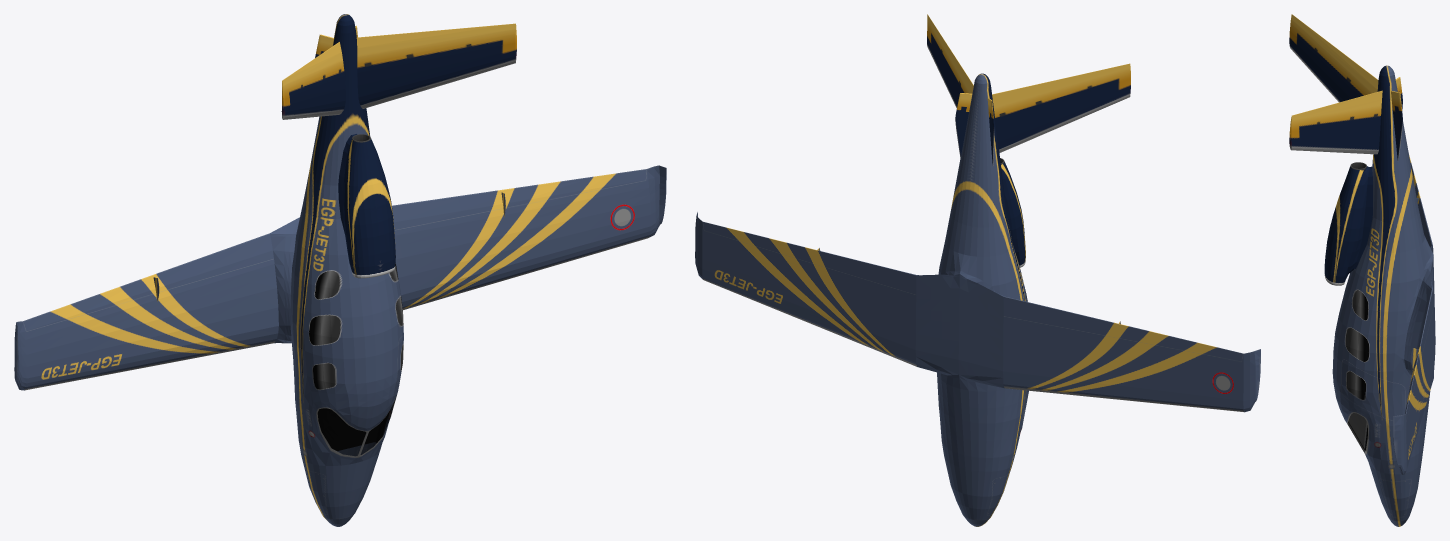
File: FREOBJ.obj
3 renders of one model, left to right at view 1: azimuth 30°, elevation 25°; view 2: azimuth 150°, elevation 25°; view 3: azimuth 270°, elevation 25°, orthographic. The views are drawn at different scales.
Parts seen in each view (by area): view 1: CONTROL_Plane, GLASS_Plane.004; view 2: CONTROL_Plane; view 3: CONTROL_Plane, GLASS_Plane.004.
Part boxes in pixels (<box>): CONTROL_Plane: <box>14,14,666,526</box>; GLASS_Plane.004: <box>317,395,396,456</box>; CONTROL_Plane: <box>695,14,1260,526</box>; CONTROL_Plane: <box>1289,14,1435,526</box>; GLASS_Plane.004: <box>1347,413,1367,452</box>.
Bounding box in the file's own units: 5.28 × 4.03 × 1.16.
2 materials, 2 textured.
